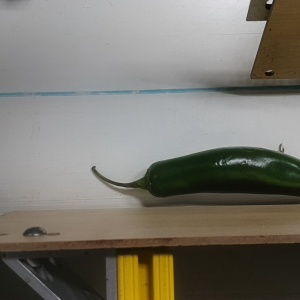Cut Point: (134, 154, 169, 202)
